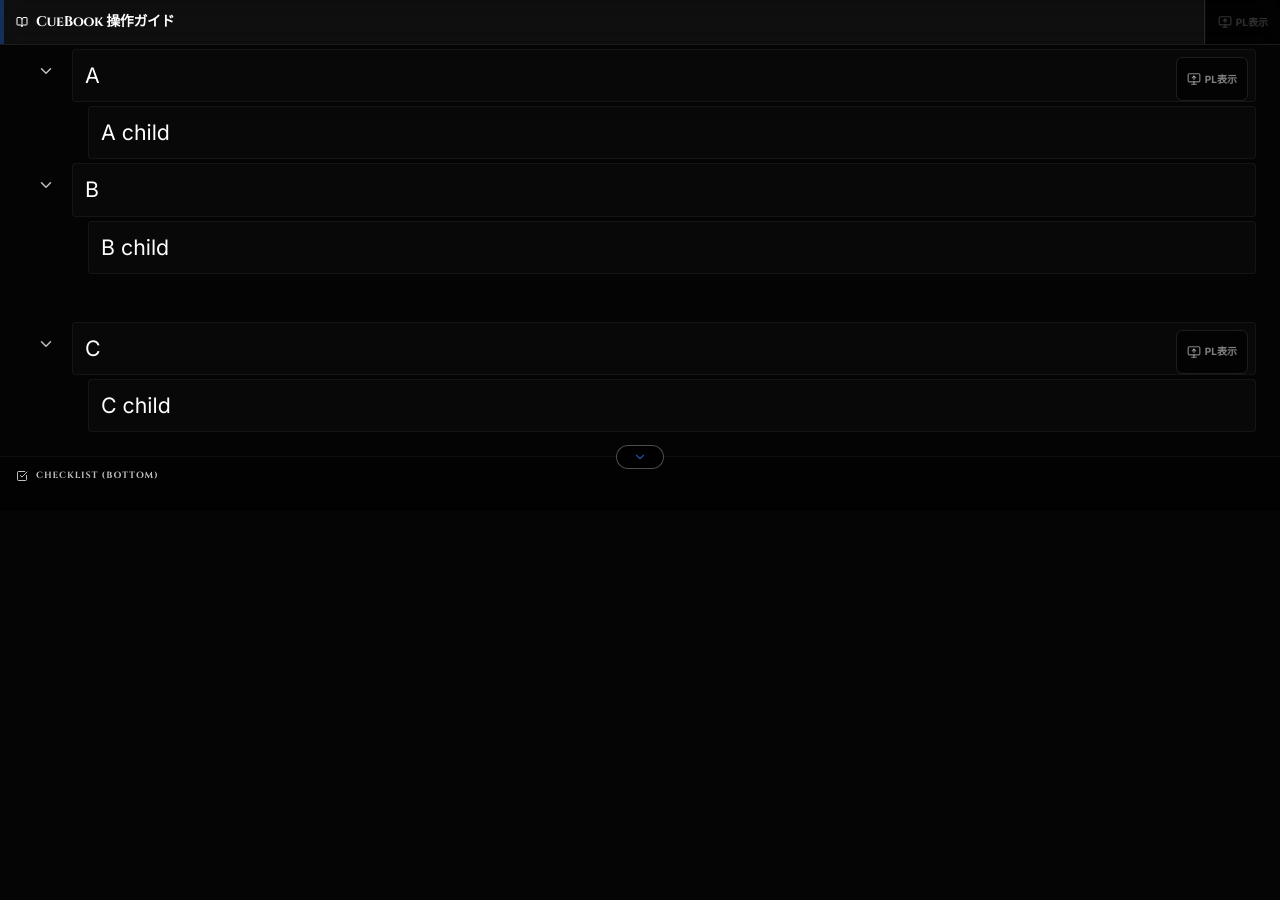
ScriptViewer tablet regressions › folds only one outline branch and block
Step 1. Click the button named "折り畳む: A" → (46, 71), box [24,49,68,93]
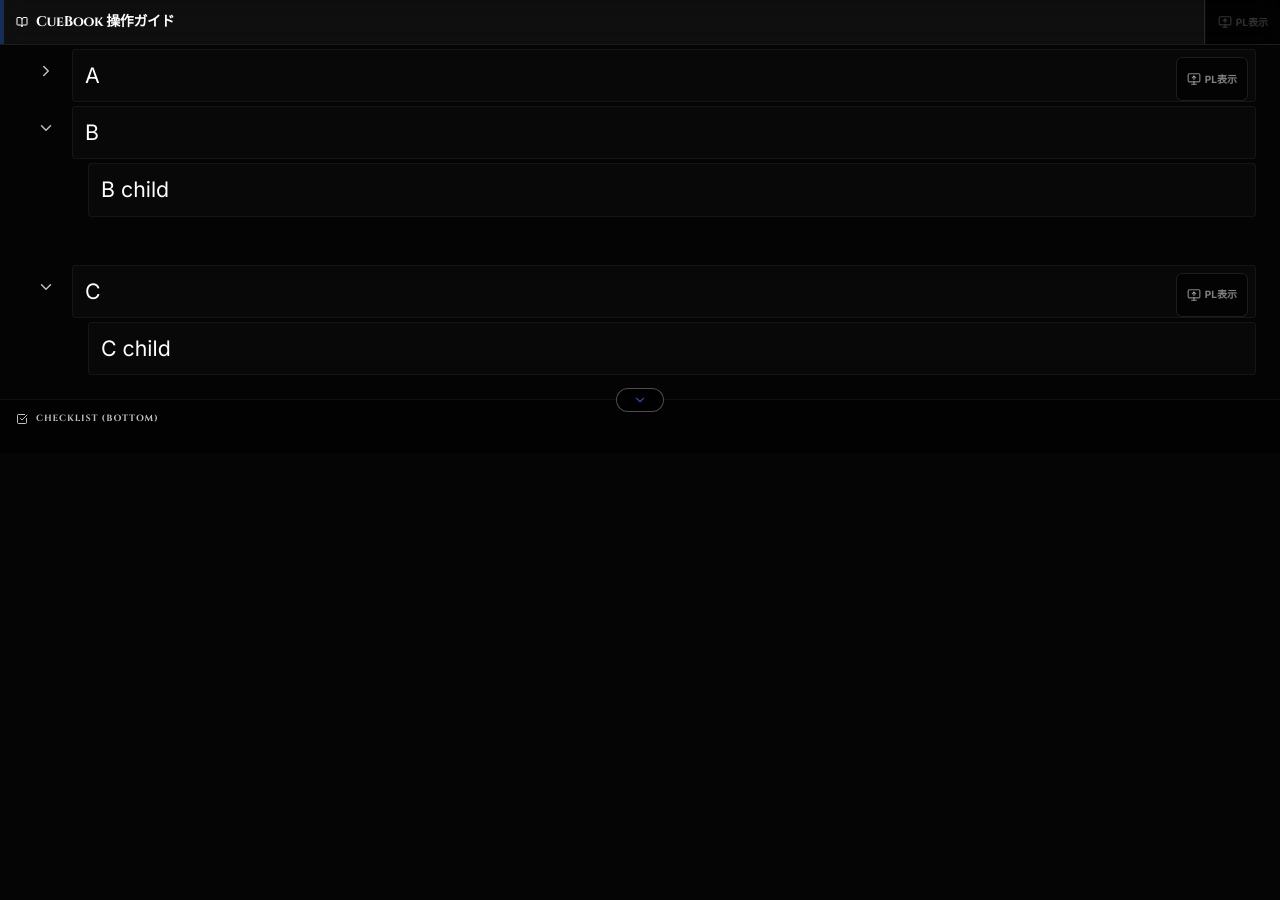
expect the text "B child" is shown: met, box [88,163,1256,217]
expect the text "A child" is gone: met
